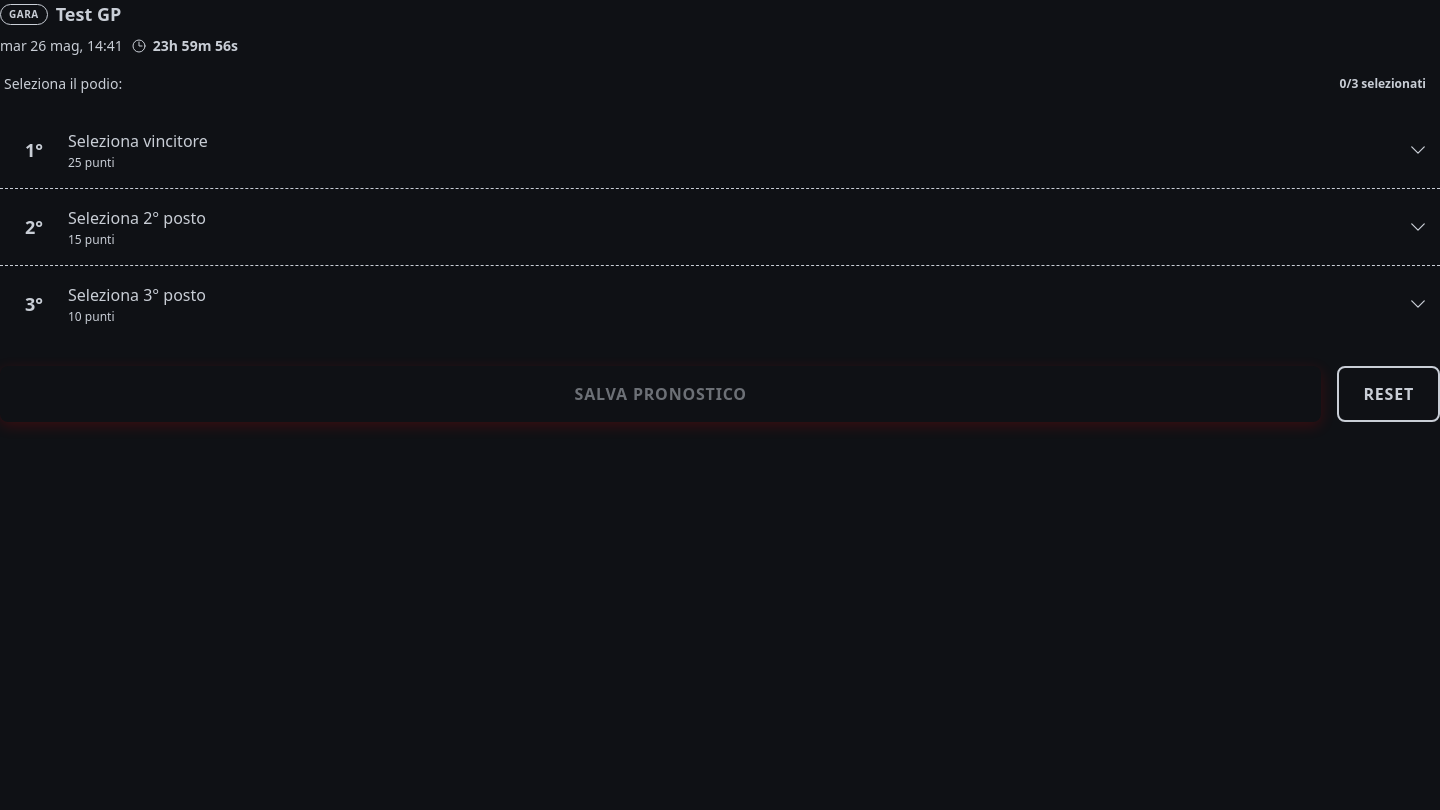
Test: PredictionForm View Modes › mostra errori dopo interazione quando ci sono campi mancanti
This screenshot has width=1440, height=810.
What coordinates should you click on to do the following:
click the button "1° Seleziona vincitore 25 punti"
I would click on:
 (138, 141)
Its box is [0, 112, 1439, 189].
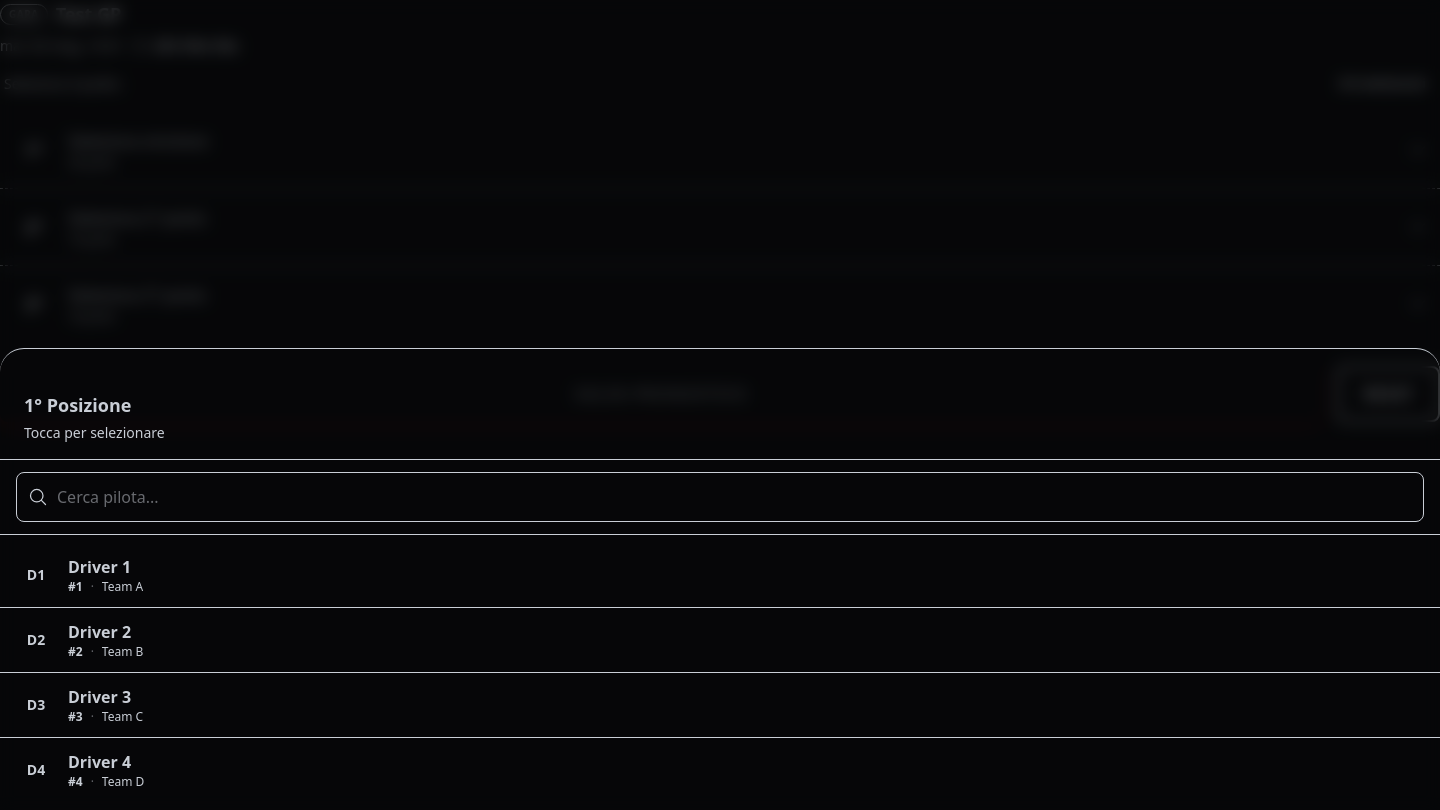
What coordinates should you click on to do the following:
click the button "D1 Driver 1 #1 · Team A"
I would click on:
 (100, 567)
Its box is [0, 543, 1439, 608].
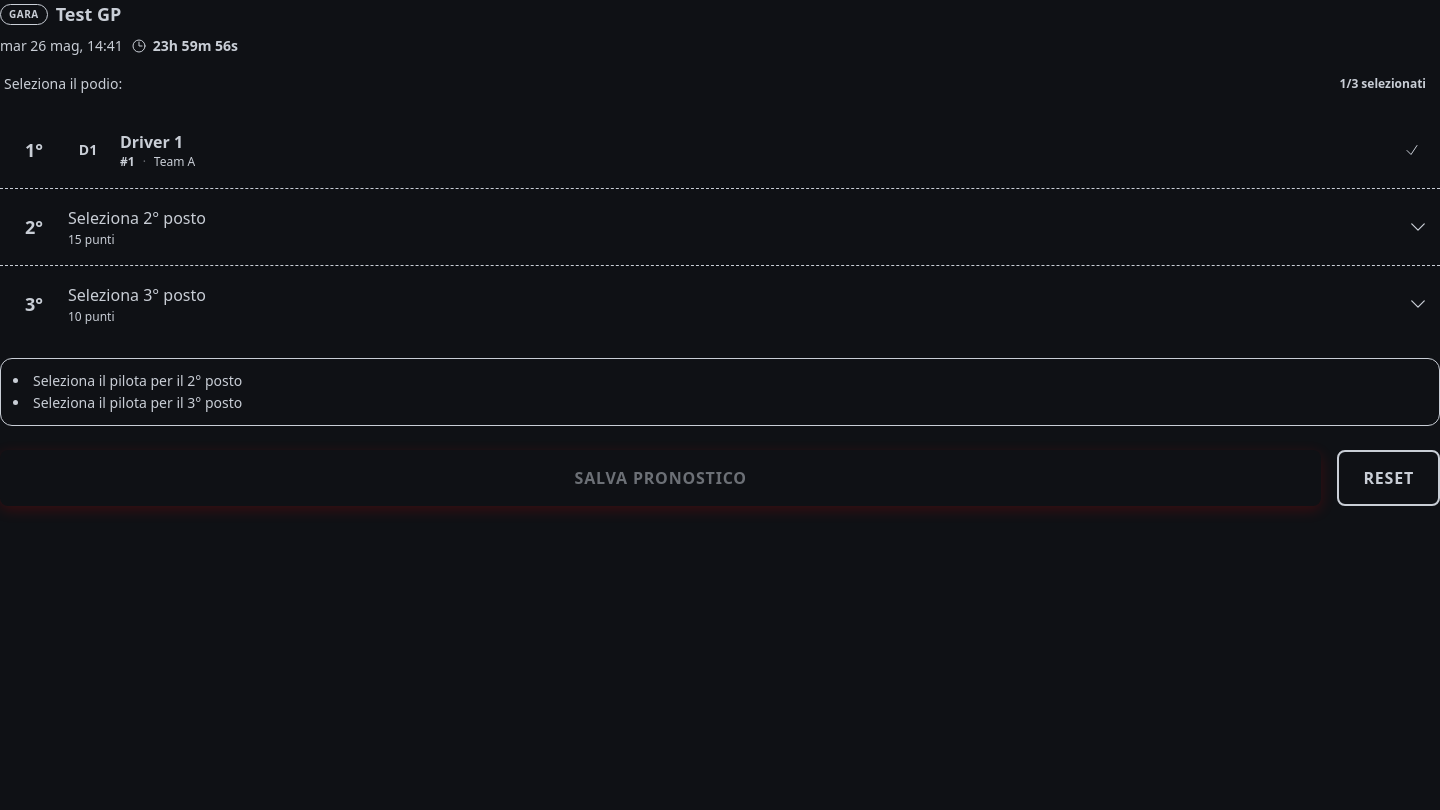
expect the list item "Seleziona il pilota per il 2° posto" is shown: met, box [33, 371, 242, 390]
expect the list item "Seleziona il pilota per il 3° posto" is shown: met, box [33, 393, 242, 412]
